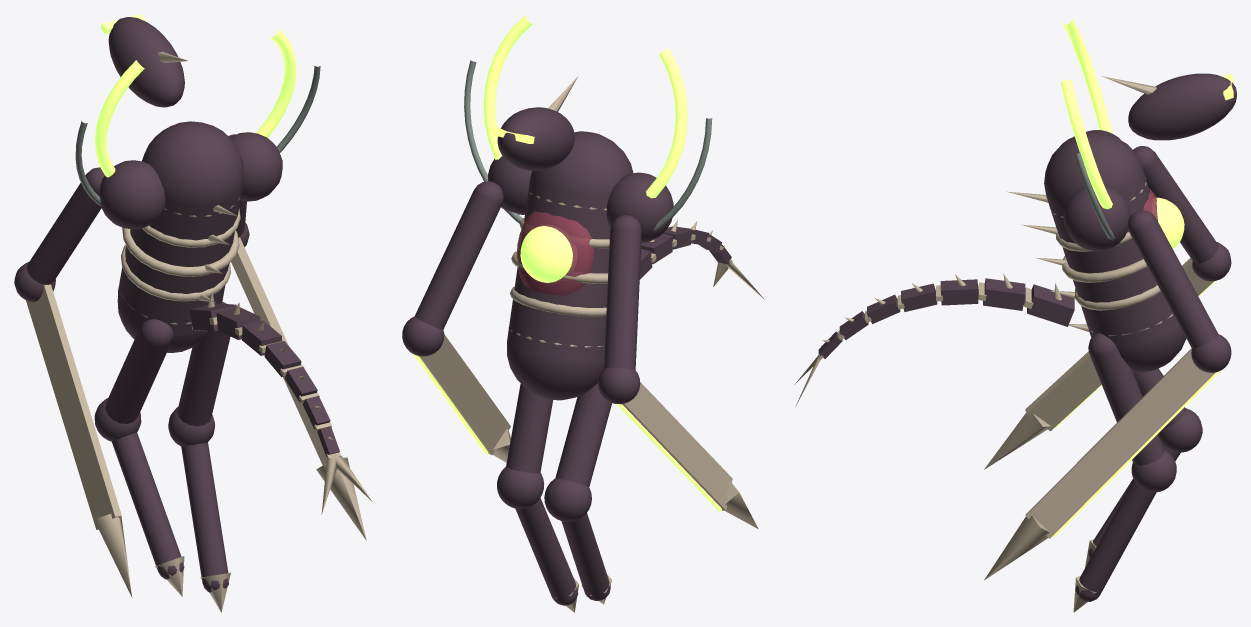
Rendered from grafted-brood-stalker.glb.
The picture shows the model from 3 angles, left to right: view 1: azimuth 30°, elevation 25°; view 2: azimuth 150°, elevation 25°; view 3: azimuth 270°, elevation 25°; orthographic projection. The views are drawn at different scales.
Parts seen in each view (by area): view 1: torso_shell, blade_l, skull, leg_l_lower, leg_r_lower, leg_l_upper, shoulder_l, upper_arm_l, leg_r_upper, halo_arc, shoulder_r, blade_r (+15 smaller); view 2: torso_shell, upper_arm_r, upper_arm_l, blade_l, blade_r, skull, halo_arc, leg_l_upper, leg_r_lower, chest_window, leg_r_upper, shoulder_l (+13 smaller); view 3: torso_shell, blade_r, skull, upper_arm_r, leg_r_lower, halo_arc, leg_r_upper, blade_l, shoulder_r, upper_arm_l, tail, blade_tip_r (+14 smaller).
Part boxes in pixels (x1=…): torso_shell: x1=117, y1=121, x2=243, y2=352; blade_l: x1=26, y1=284, x2=121, y2=529; skull: x1=108, y1=17, x2=184, y2=107; leg_l_lower: x1=111, y1=432, x2=184, y2=579; leg_r_lower: x1=181, y1=442, x2=228, y2=592; leg_l_upper: x1=105, y1=319, x2=173, y2=423; shoulder_l: x1=99, y1=160, x2=165, y2=229; upper_arm_l: x1=26, y1=167, x2=104, y2=284; leg_r_upper: x1=177, y1=301, x2=230, y2=426; halo_arc: x1=94, y1=28, x2=296, y2=177; shoulder_r: x1=230, y1=132, x2=282, y2=201; blade_r: x1=231, y1=237, x2=326, y2=465; torso_shell: x1=507, y1=131, x2=633, y2=400; upper_arm_r: x1=415, y1=181, x2=503, y2=329; upper_arm_l: x1=604, y1=215, x2=641, y2=369; blade_l: x1=622, y1=382, x2=732, y2=510; blade_r: x1=419, y1=334, x2=510, y2=454; skull: x1=497, y1=107, x2=574, y2=170; halo_arc: x1=483, y1=14, x2=687, y2=198; leg_l_upper: x1=555, y1=383, x2=611, y2=486; leg_r_lower: x1=515, y1=498, x2=578, y2=605; chest_window: x1=516, y1=211, x2=593, y2=295; leg_r_upper: x1=506, y1=383, x2=553, y2=473; shoulder_l: x1=606, y1=172, x2=673, y2=242; torso_shell: x1=1044, y1=132, x2=1186, y2=372; blade_r: x1=1025, y1=348, x2=1215, y2=538; skull: x1=1128, y1=73, x2=1236, y2=140; upper_arm_r: x1=1127, y1=210, x2=1218, y2=348; leg_r_lower: x1=1075, y1=480, x2=1156, y2=601; halo_arc: x1=1060, y1=18, x2=1112, y2=209; leg_r_upper: x1=1088, y1=333, x2=1164, y2=465; blade_l: x1=1025, y1=258, x2=1213, y2=431; shoulder_r: x1=1063, y1=185, x2=1130, y2=251; upper_arm_l: x1=1133, y1=146, x2=1218, y2=263; tail: x1=1023, y1=283, x2=1074, y2=326; blade_tip_r: x1=984, y1=515, x2=1049, y2=580.
Size of the model in its own units: 1.68 by 3.64 by 2.62.
